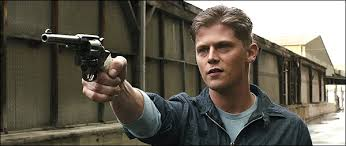gun: (39, 27, 115, 83)
